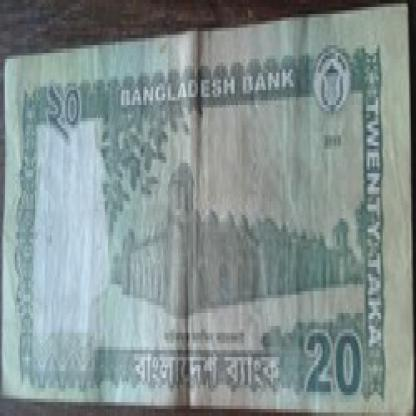Twenty: (301, 322, 366, 413), (40, 83, 93, 166)
